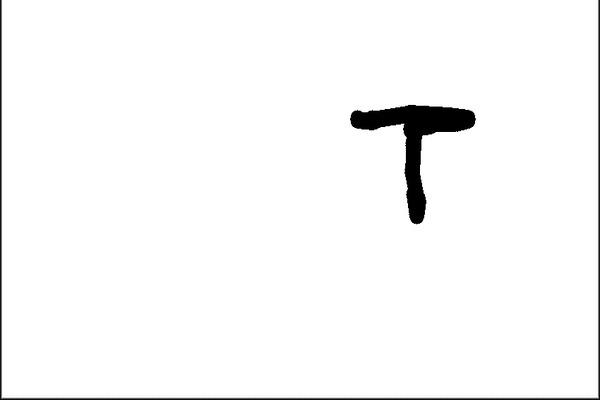T: (343, 99, 478, 223)
